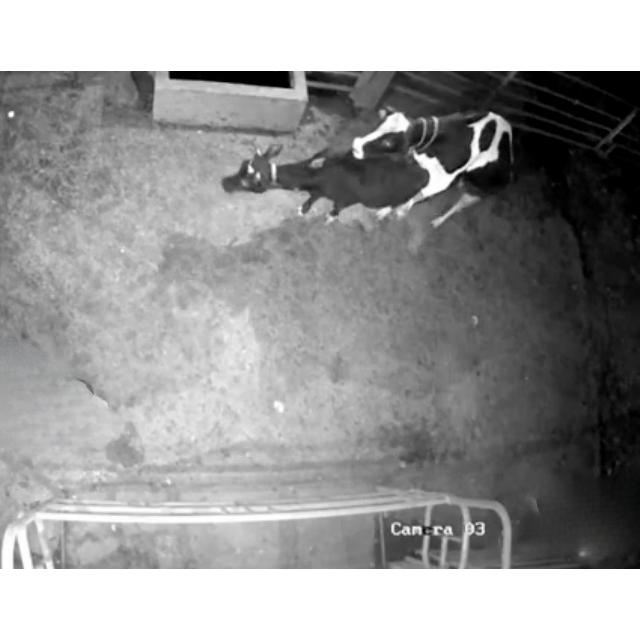ride: (350, 94, 522, 246)
